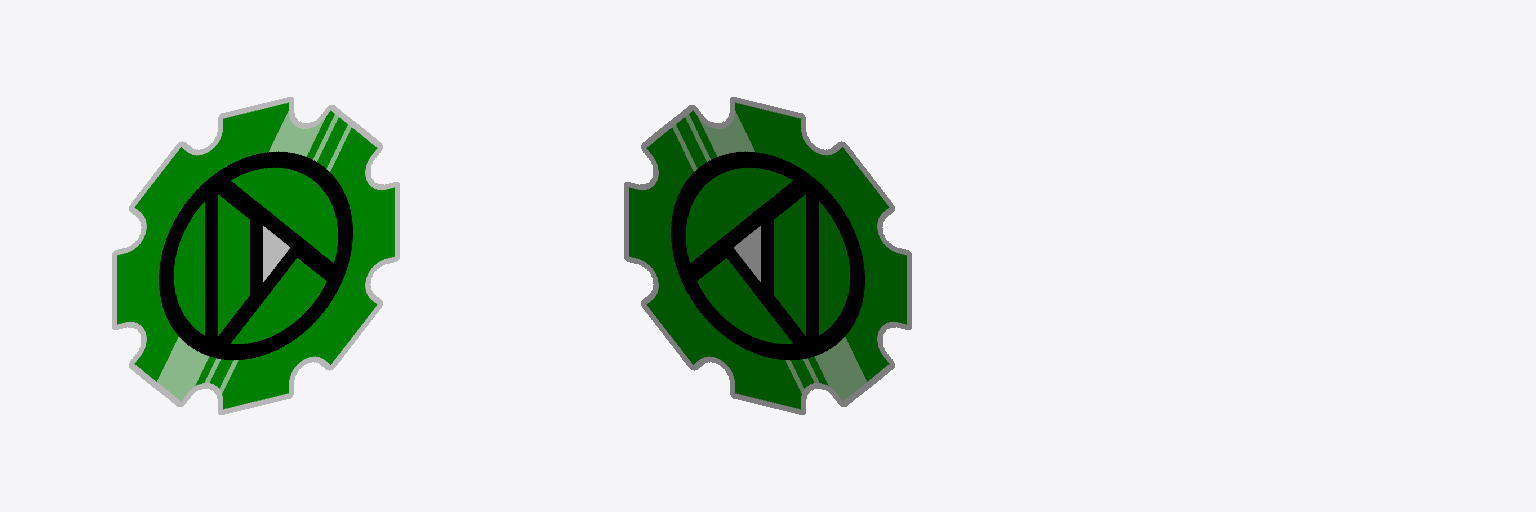
3 views of the same model, side by side, from view 1: azimuth 30°, elevation 25°; view 2: azimuth 150°, elevation 25°; view 3: azimuth 270°, elevation 25° (orthographic).
Visible parts, largest first — view 1: Cube; view 2: Cube; view 3: none.
Boxes of the visible parts, box(x1,y1,x2,y2) form: Cube: box(112, 97, 399, 414); Cube: box(624, 97, 911, 414).
Size of the model in its own units: 2 by 2 by 0.
1 materials, 1 textured.